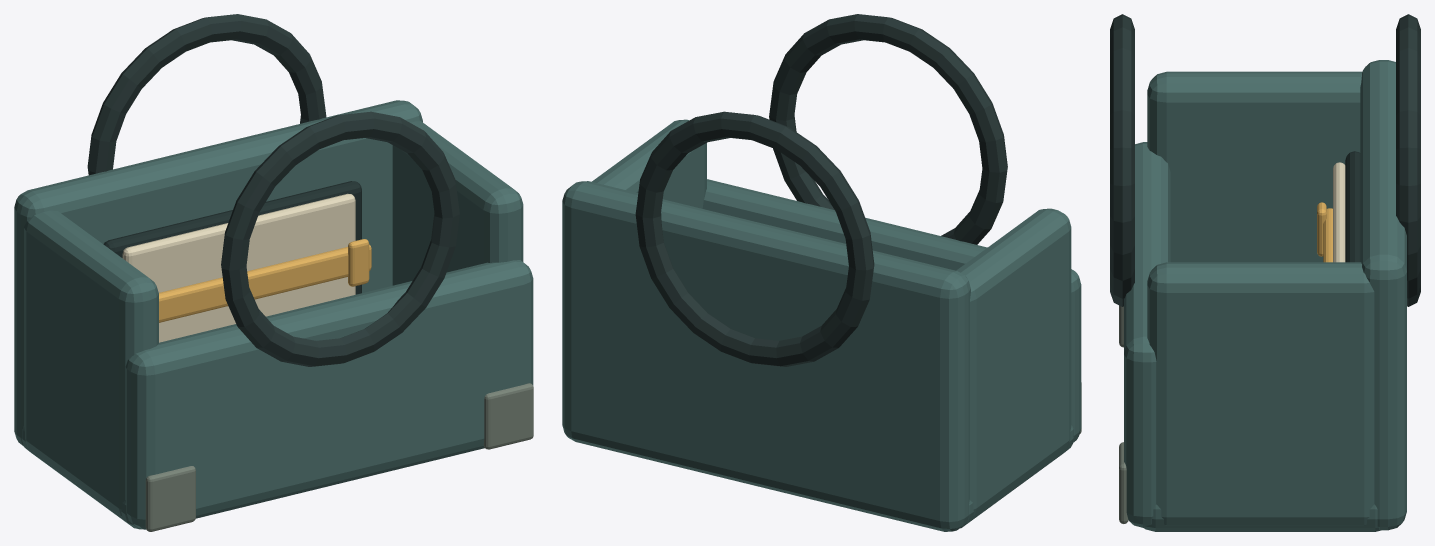
Rendered from bag-strap-v1-Bac4Cnfa.glb.
3 views of the same model, side by side, from view 1: azimuth 30°, elevation 25°; view 2: azimuth 150°, elevation 25°; view 3: azimuth 270°, elevation 25° (orthographic). The views are drawn at different scales.
Visible parts, largest first — view 1: Low front wall, Left side wall, Back wall, Front handle, Flat sketch block, Right side wall, Back handle, Extra inner strap, Inner pocket, Matching corner wear, Matching corner wear.001, Hand sewn strap anchor.001; view 2: Back wall, Left side wall, Back handle, Front handle, Low front wall, Right side wall; view 3: Right side wall, Left side wall, Back wall, Low front wall, Front handle, Back handle, Bag floor, Inner pocket, Flat sketch block, Matching corner wear.001, Extra inner strap, Hand sewn strap anchor.
Part boxes in pixels (box(x1,y1,x2,y2)): Low front wall: box(125, 260, 533, 529); Left side wall: box(24, 210, 158, 516); Back wall: box(14, 100, 422, 446); Front handle: box(221, 111, 459, 366); Flat sketch block: box(122, 193, 355, 342); Right side wall: box(392, 121, 523, 285); Back handle: box(87, 14, 326, 175); Extra inner strap: box(159, 244, 371, 322); Inner pocket: box(103, 181, 361, 294); Matching corner wear: box(145, 466, 195, 531); Matching corner wear.001: box(483, 383, 533, 449); Hand sewn strap anchor.001: box(348, 239, 369, 286); Back wall: box(562, 181, 970, 531); Left side wall: box(956, 208, 1071, 516); Back handle: box(635, 111, 874, 366); Front handle: box(769, 14, 1007, 244); Low front wall: box(702, 179, 1081, 442); Right side wall: box(592, 119, 706, 208); Right side wall: box(1147, 262, 1374, 525); Left side wall: box(1147, 71, 1362, 262); Back wall: box(1360, 60, 1406, 530); Low front wall: box(1124, 142, 1170, 527); Front handle: box(1110, 14, 1134, 306); Back handle: box(1396, 14, 1420, 306); Bag floor: box(1144, 504, 1380, 531); Inner pocket: box(1345, 151, 1360, 262); Flat sketch block: box(1333, 162, 1345, 262); Matching corner wear.001: box(1119, 442, 1128, 523); Extra inner strap: box(1323, 208, 1332, 262); Hand sewn strap anchor: box(1317, 202, 1326, 256).
Size of the model in its own units: 1.81 by 1.63 by 1.13.
